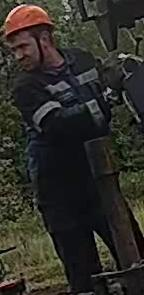helmet: (4, 3, 54, 38)
vest: (16, 46, 113, 206)
